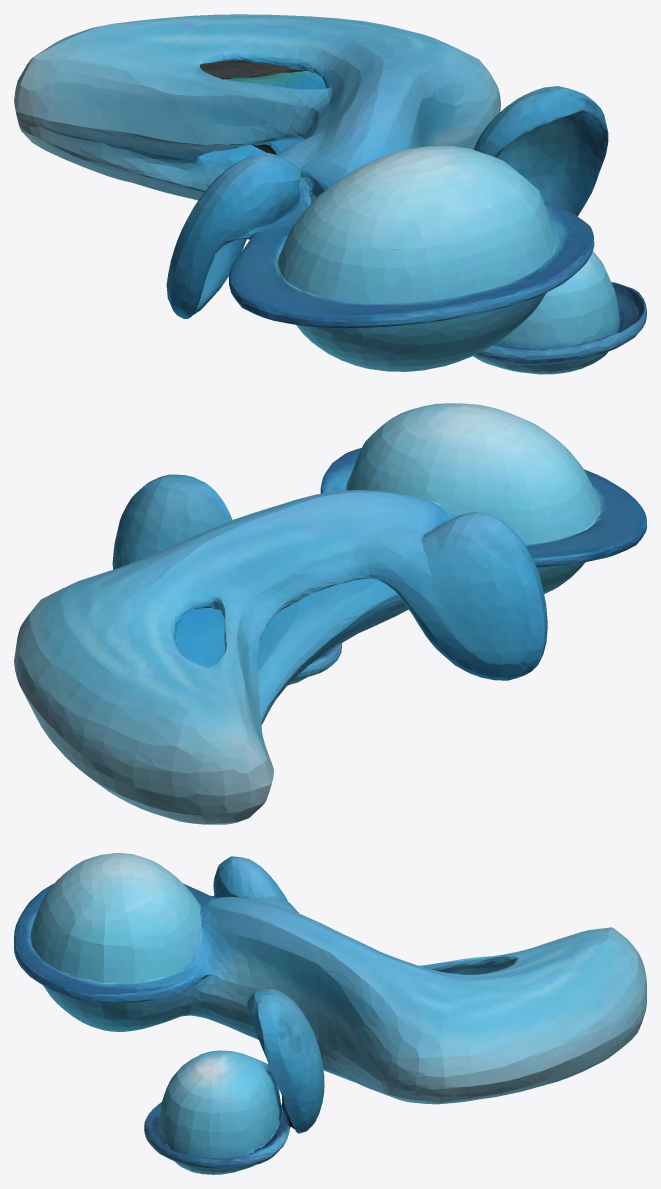
Rendered from bubbly.glb.
The picture shows the model from 3 angles, top to bottom: view 1: azimuth 30°, elevation 25°; view 2: azimuth 150°, elevation 25°; view 3: azimuth 270°, elevation 25°; orthographic projection. The views are drawn at different scales.
Parts seen in each view (by area): view 1: world; view 2: world; view 3: world.
Part boxes in pixels (bbox=[...]): world: bbox=[14, 14, 646, 374]; world: bbox=[14, 403, 646, 824]; world: bbox=[14, 853, 646, 1174].
Size of the model in its own units: 0.6607 by 0.3927 by 0.9994.
Materials: 1 (1 with a texture image).
